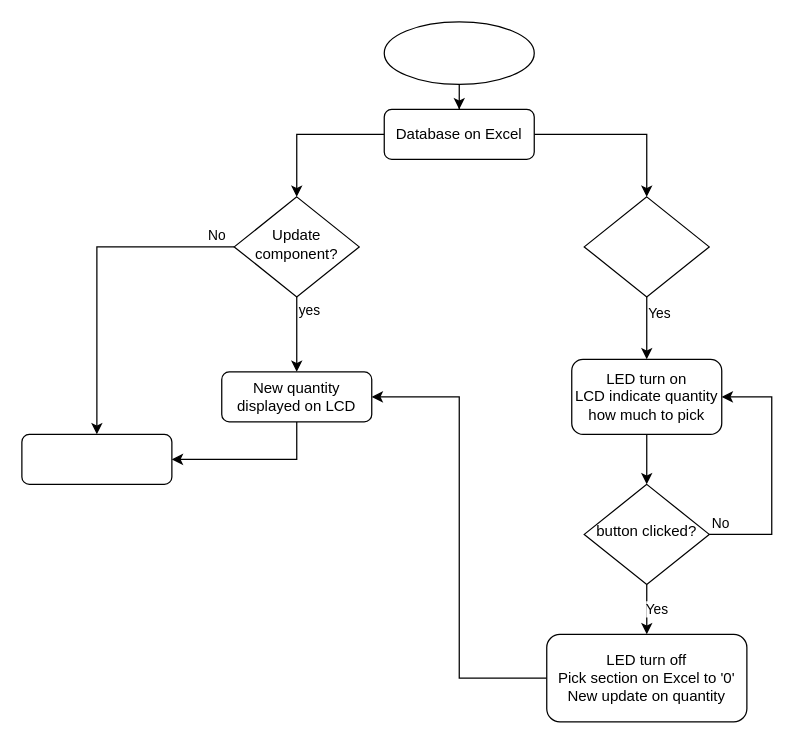
The diagram is 804 pixels wide and 744 high, and some of its shapes have lost their labels. The shapes that lost their labels are listed below. From the top down, each one's centre as x and y in pixels, then its label:
At [458,52]: "START".
At [646,246]: "Update Pick section?".
At [96,458]: "Show quantity on LCD".
